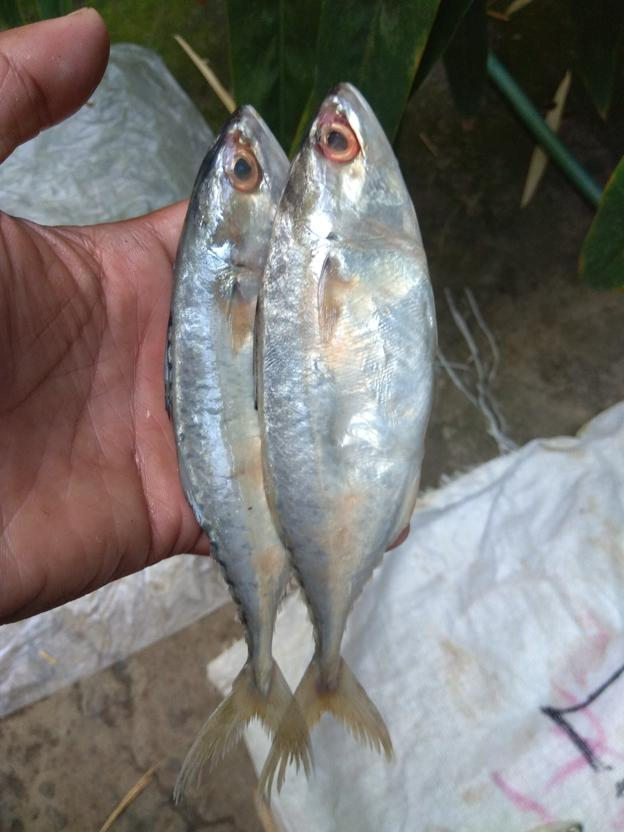Fish head: (265, 82, 421, 254), (174, 102, 294, 274)
Fish tail: (169, 653, 317, 808), (255, 644, 394, 802)
